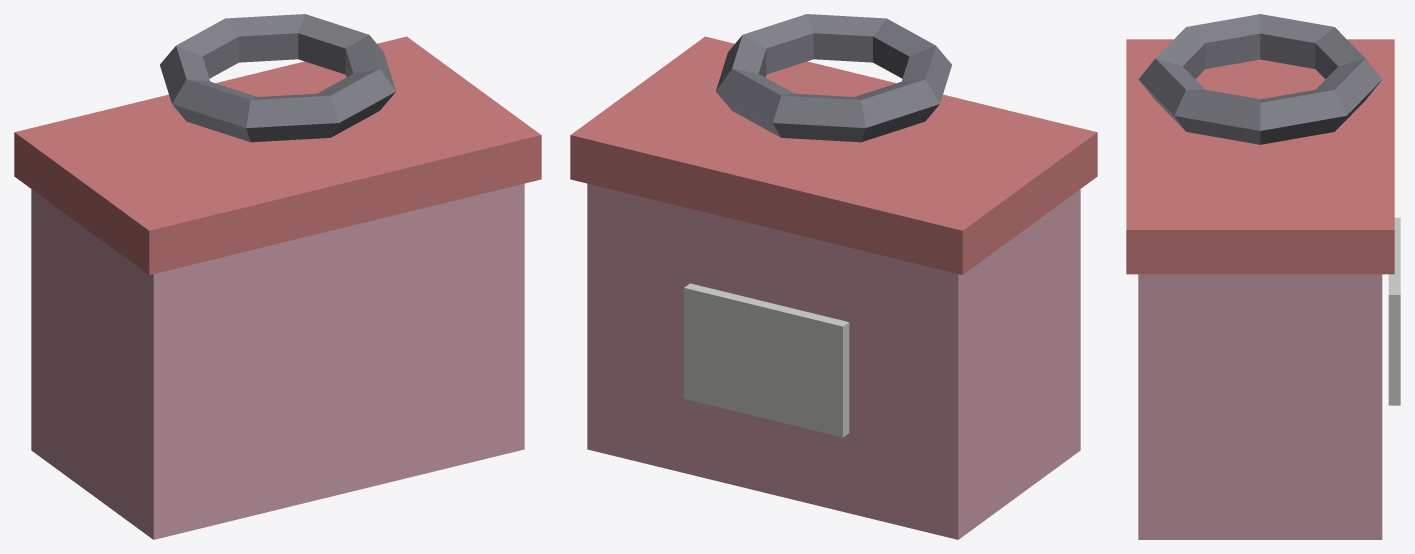
Rendered from kid_lancheira.glb.
The picture shows the model from 3 angles, left to right: view 1: azimuth 30°, elevation 25°; view 2: azimuth 150°, elevation 25°; view 3: azimuth 270°, elevation 25°; orthographic projection.
Visible parts, largest first — view 1: KID_LANCHEIRA_v01; view 2: KID_LANCHEIRA_v01; view 3: KID_LANCHEIRA_v01.
Part boxes in pixels (box(x1,y1,x2,y2)): KID_LANCHEIRA_v01: box(14, 14, 541, 539); KID_LANCHEIRA_v01: box(570, 14, 1097, 539); KID_LANCHEIRA_v01: box(1126, 14, 1400, 539).
Bounding box in the file's own units: 0.37 × 0.354 × 0.225.
